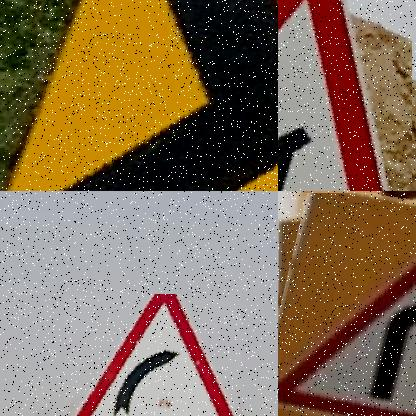Bridge Ahead: (278, 0, 381, 191)
Right bend: (81, 294, 232, 416)
U-Turn: (278, 194, 416, 416), (294, 270, 416, 416)
